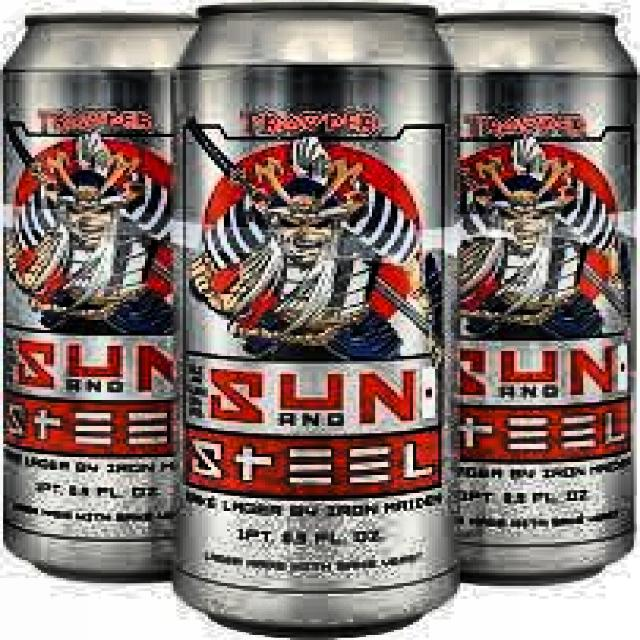can: (168, 0, 470, 640), (0, 11, 227, 588), (431, 7, 640, 593)
